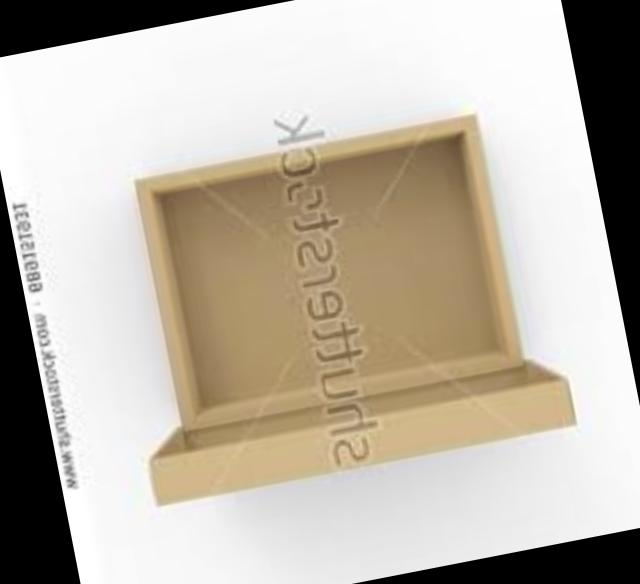cardboard paper: (142, 119, 579, 508)
